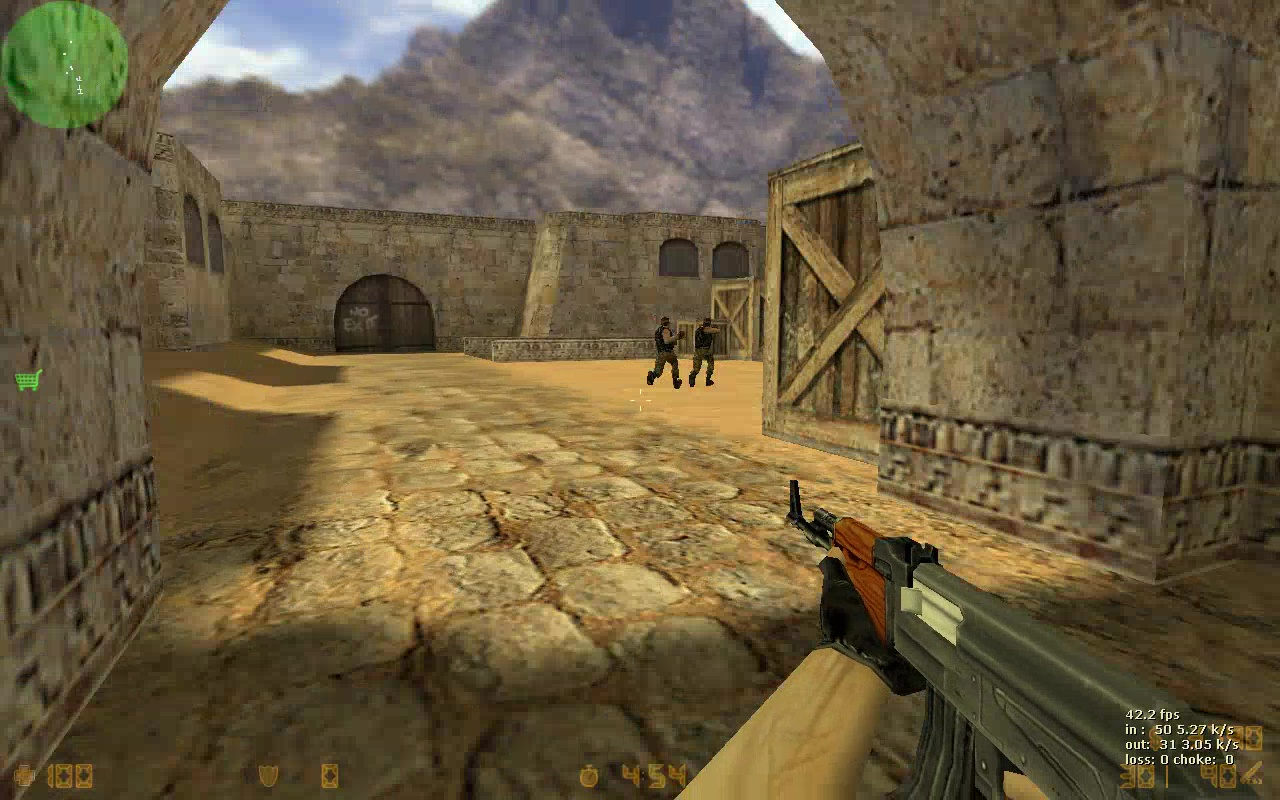terr1: (643, 318, 684, 392), (689, 317, 720, 389)
